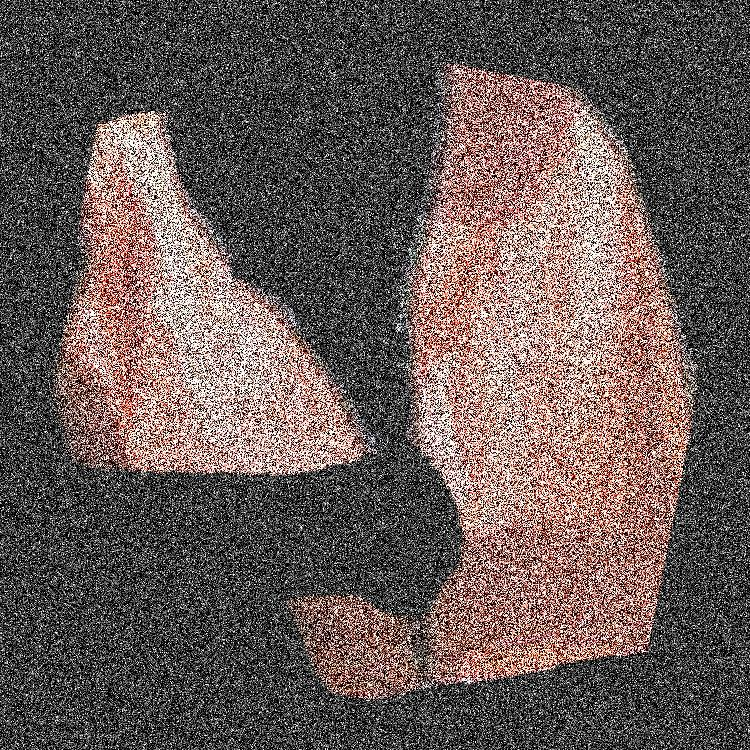Colete: (498, 0, 749, 749)
